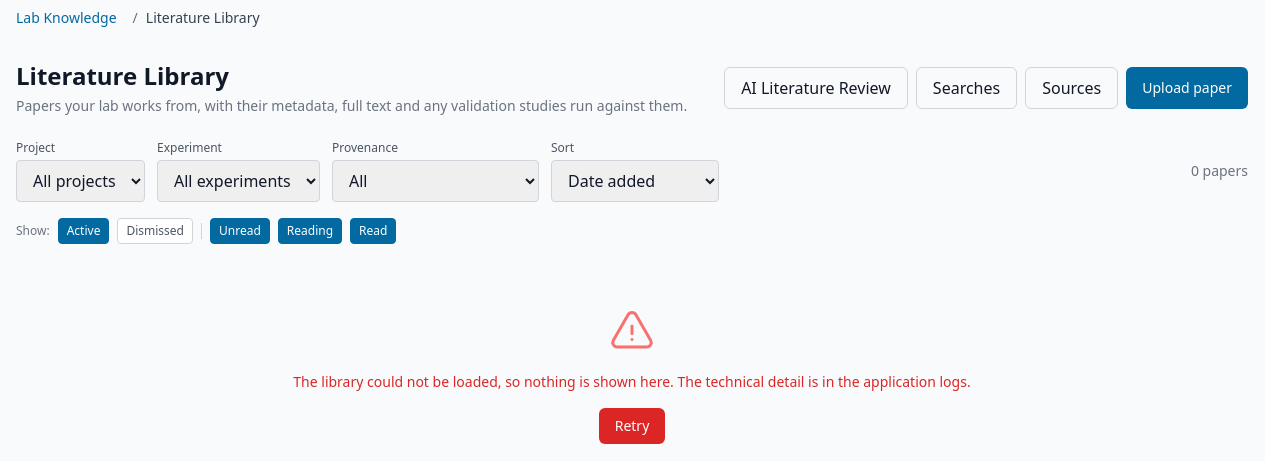
recovers to the list when Retry succeeds
Click the button with test id "error-retry".
click(632, 426)  # box [599,408,665,444]
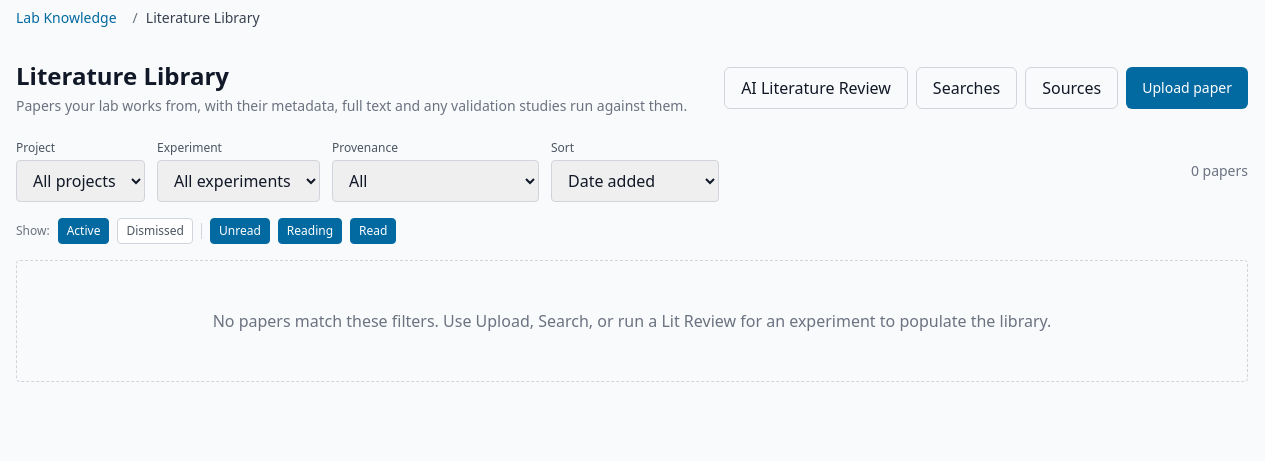
Expected: the text "No papers match" is shown, [213,310,1051,332]
